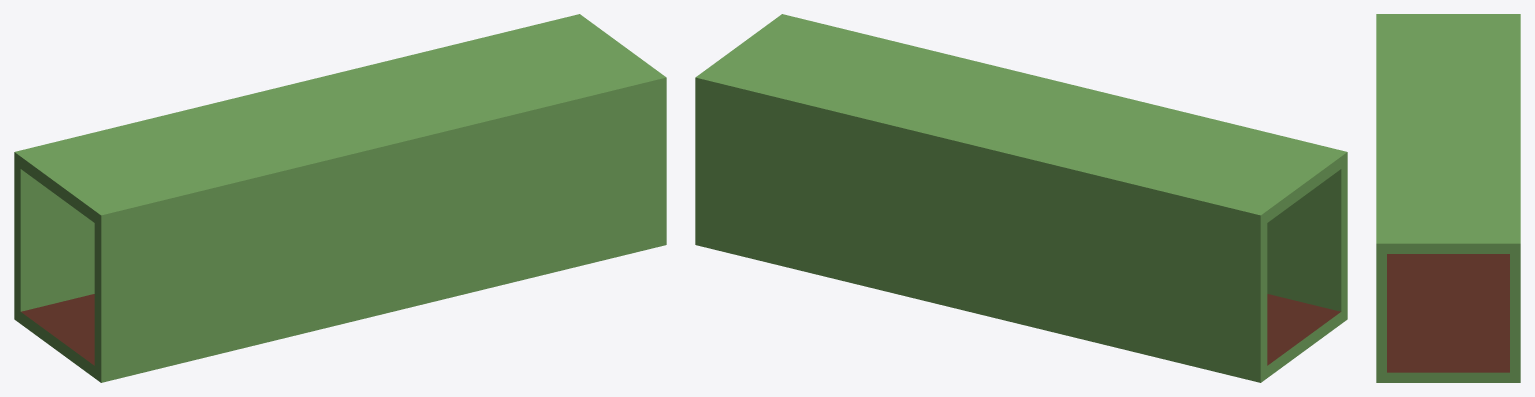
Rendered from Corridor.fbx.
The picture shows the model from 3 angles, left to right: view 1: azimuth 30°, elevation 25°; view 2: azimuth 150°, elevation 25°; view 3: azimuth 270°, elevation 25°; orthographic projection. The views are drawn at different scales.
Parts seen in each view (by area): view 1: Corridor; view 2: Corridor; view 3: Corridor.
Part boxes in pixels (bbox=[...]): Corridor: bbox=[14, 14, 666, 382]; Corridor: bbox=[695, 14, 1347, 382]; Corridor: bbox=[1376, 14, 1520, 382].
Size of the model in its own units: 2386 by 676 by 634.
